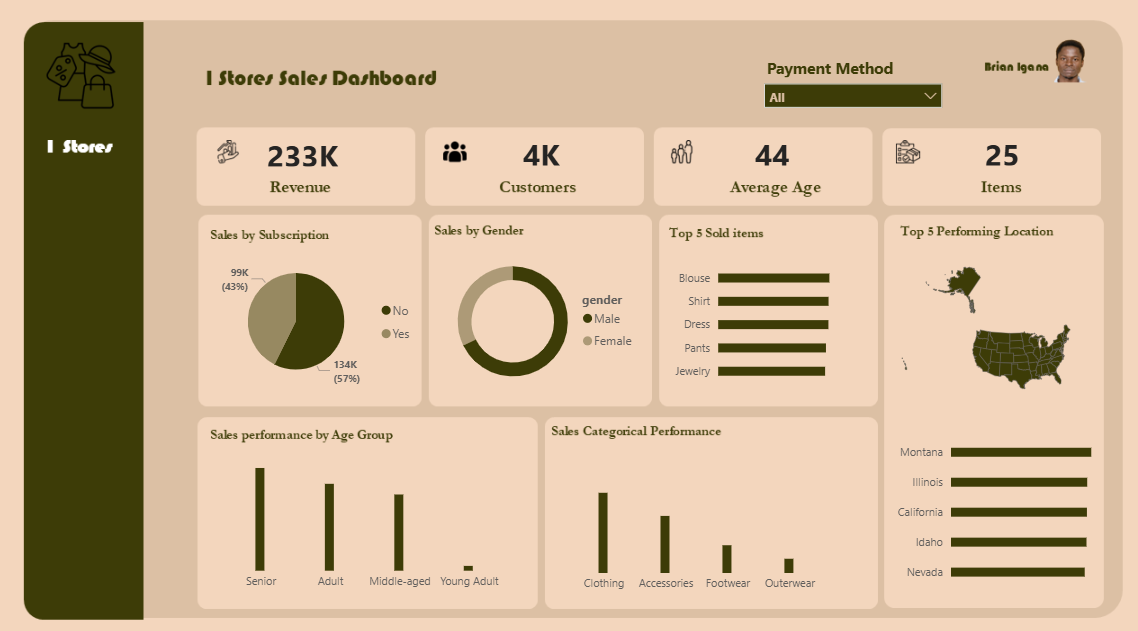

What the dashboard file says about the page in this screenshot:
{"tool":"powerbi","page":{"name":"Dashboard","canvas":[1280,720],"ordinal":0},"visuals":[{"type":"donutChart","fields":{"Y":["public customer.Total Sales"],"Category":["public customer.gender"]},"box":[493,278,229,163],"z":0},{"type":"columnChart","fields":{"Y":["public customer.Total Sales"],"Category":["public customer.age_group"]},"box":[229,493,365,173],"z":1000},{"type":"columnChart","fields":{"Y":["public customer.Total Sales"],"Category":["public customer.category"]},"box":[616.7,496.7,326.7,172.2],"z":2000},{"type":"cardVisual","fields":{"Data":["Table.Revenue"]},"box":[273.3,141.1,161.1,63.3],"z":3000},{"type":"cardVisual","fields":{"Data":["public customer.Total Customers"]},"box":[558,141,153,62],"z":4000},{"type":"cardVisual","fields":{"Data":["Calculated Measures.Average Age"]},"box":[815.6,141.1,120,62.2],"z":5000},{"type":"cardVisual","fields":{"Data":["Calculated Measures.No. of items"]},"box":[1071.1,141.1,115.6,62.2],"z":6000},{"type":"pieChart","fields":{"Y":["Calculated Measures.Revenue"],"Category":["public customer.discount_applied"]},"box":[235,278,239,163],"z":7000},{"type":"clusteredBarChart","fields":{"Category":["public customer.location"],"Y":["public customer.Total Sales"]},"box":[992.2,465.6,236.7,204.4],"z":8000},{"type":"barChart","fields":{"Category":["public customer.item_purchased"],"Y":["public customer.Total Sales"]},"box":[746,278,241,163],"z":9000},{"type":"shapeMap","fields":{"Series":["public customer.location"],"Category":["public customer.location"]},"box":[992.2,268.9,217.8,195.6],"z":9001},{"type":"slicer","fields":{"Values":["public customer.payment_method"]},"box":[844.4,60,217.8,67.8],"z":9002}]}

Visuals, with their boxes in screenshot pixels (x1, y1, x2, y2), scaled from the page's 1280x720 canvas onto the 1138x631 screenshot:
donutChart - public customer.Total Sales x public customer.gender: pyautogui.locateOnScreen(438, 244, 642, 386)
columnChart - public customer.Total Sales x public customer.age_group: pyautogui.locateOnScreen(204, 432, 528, 584)
columnChart - public customer.Total Sales x public customer.category: pyautogui.locateOnScreen(548, 435, 839, 586)
cardVisual - Table.Revenue: pyautogui.locateOnScreen(243, 124, 386, 179)
cardVisual - public customer.Total Customers: pyautogui.locateOnScreen(496, 124, 632, 178)
cardVisual - Calculated Measures.Average Age: pyautogui.locateOnScreen(725, 124, 832, 178)
cardVisual - Calculated Measures.No. of items: pyautogui.locateOnScreen(952, 124, 1055, 178)
pieChart - Calculated Measures.Revenue x public customer.discount_applied: pyautogui.locateOnScreen(209, 244, 421, 386)
clusteredBarChart - public customer.location x public customer.Total Sales: pyautogui.locateOnScreen(882, 408, 1093, 587)
barChart - public customer.item_purchased x public customer.Total Sales: pyautogui.locateOnScreen(663, 244, 878, 386)
shapeMap - public customer.location x public customer.location: pyautogui.locateOnScreen(882, 236, 1076, 407)
slicer - public customer.payment_method: pyautogui.locateOnScreen(751, 53, 944, 112)
